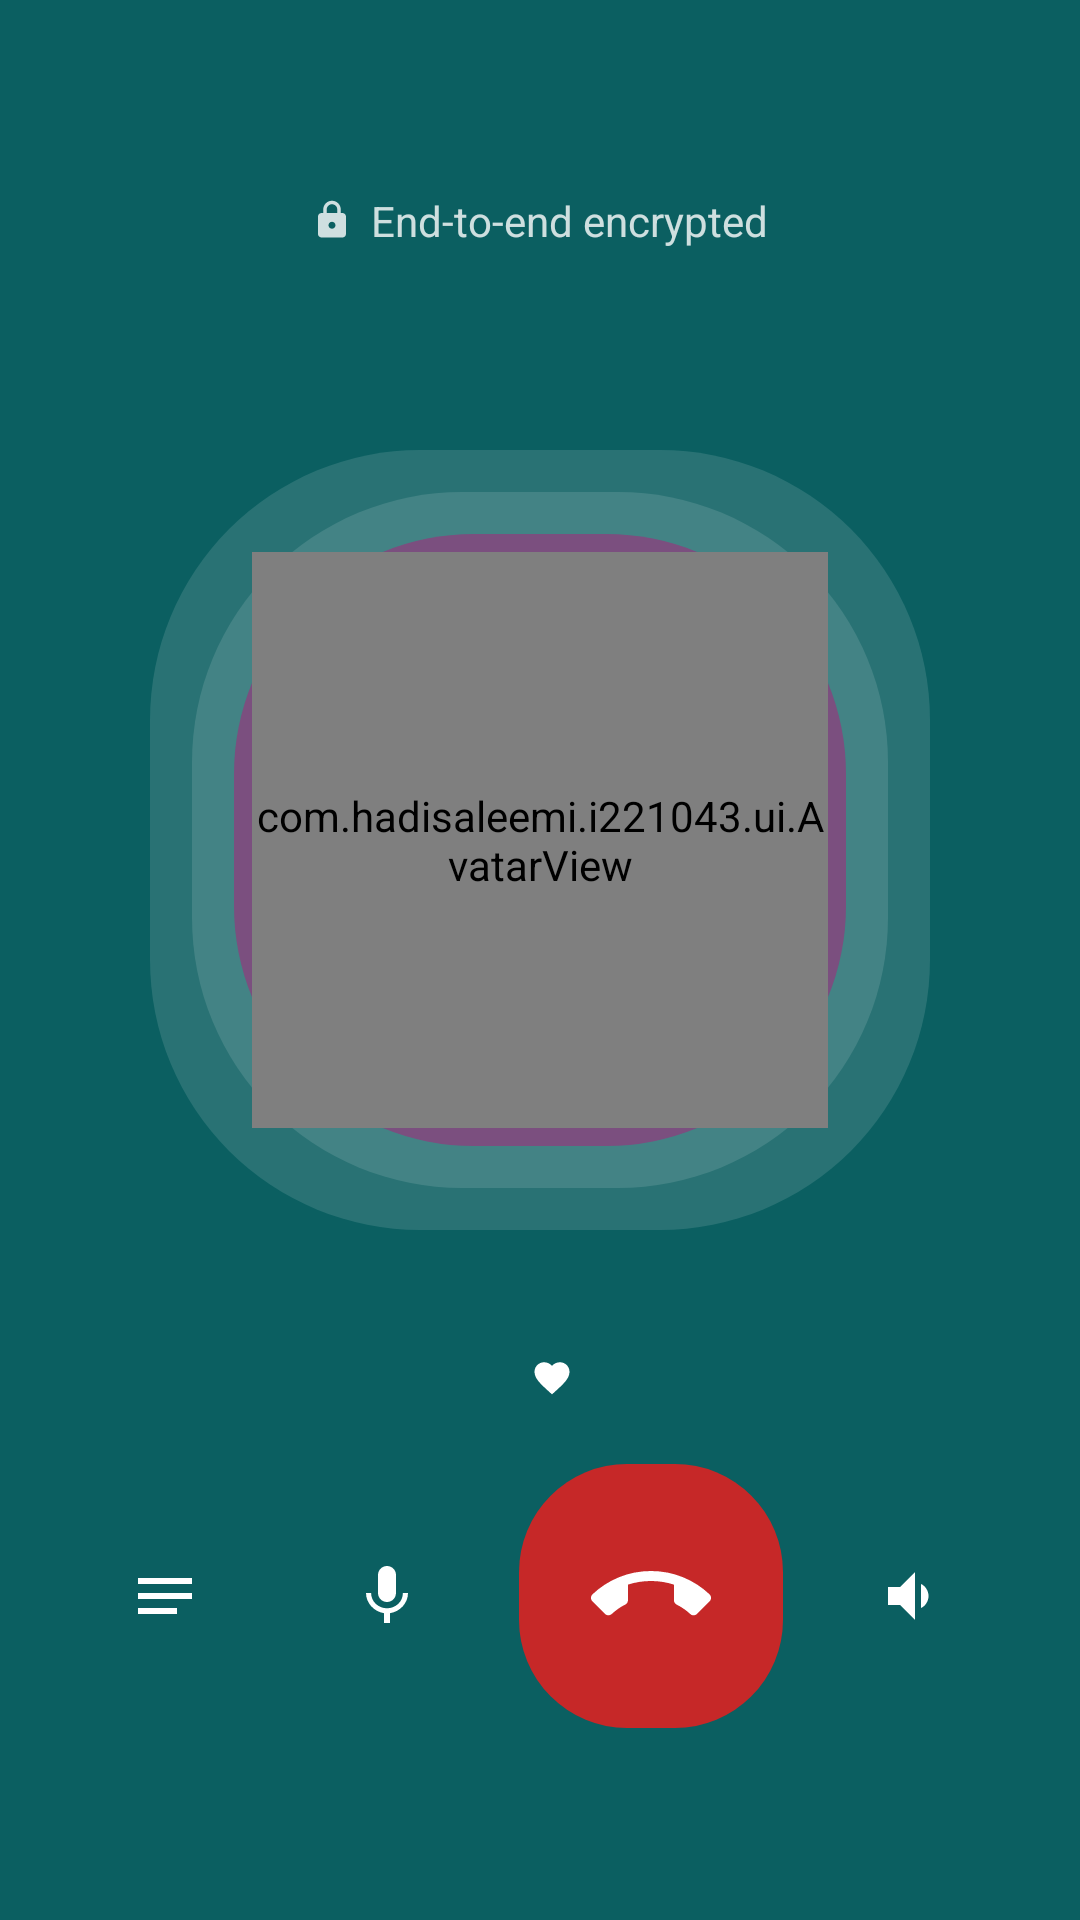

Icon click points for this 1080 x 1920 phone screenshot, format [x,y]:
End call: [651,1596]
heart: [552,1378]
lock: [332,219]
Mute: [387,1594]
Speaker: [908,1596]
